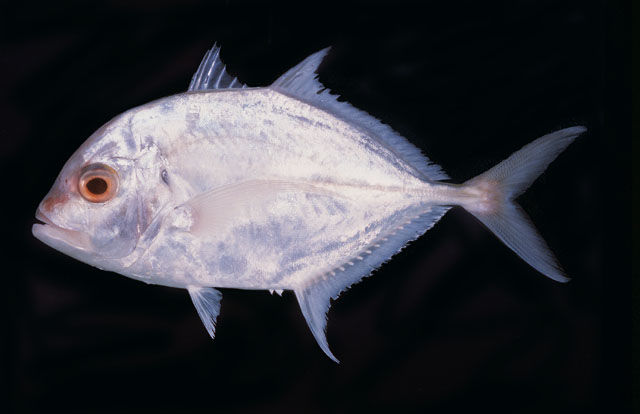fish: (33, 43, 586, 365)
